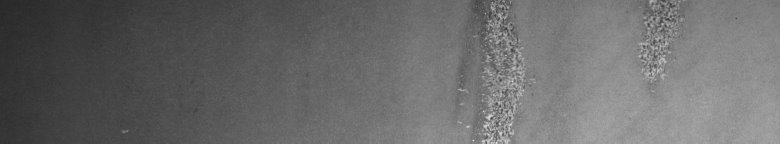hc: (637, 4, 685, 85)
